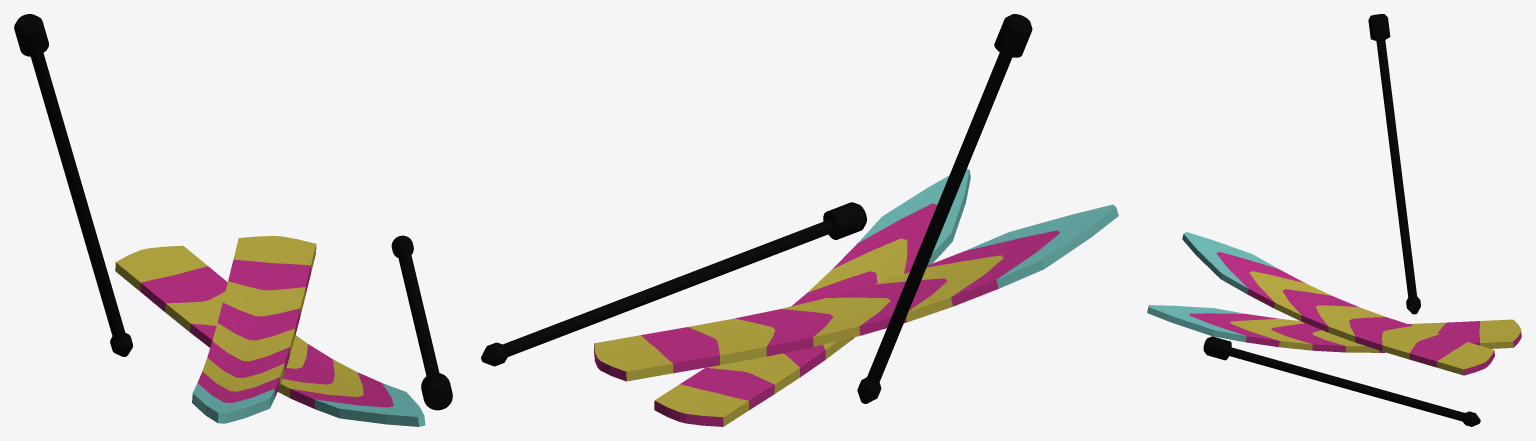
File: Skis2.fbx
The picture shows the model from 3 angles, left to right: view 1: azimuth 30°, elevation 25°; view 2: azimuth 150°, elevation 25°; view 3: azimuth 270°, elevation 25°; orthographic projection. The views are drawn at different scales.
Parts seen in each view (by area): view 1: Cylinder.004; view 2: Cylinder.004; view 3: Cylinder.004.
Boxes of the visible parts, x1,y1,x2,y2 form: Cylinder.004: [14, 14, 452, 426]; Cylinder.004: [481, 14, 1118, 426]; Cylinder.004: [1147, 14, 1521, 426].
Size of the model in its own units: 95.51 by 78.19 by 99.15.
